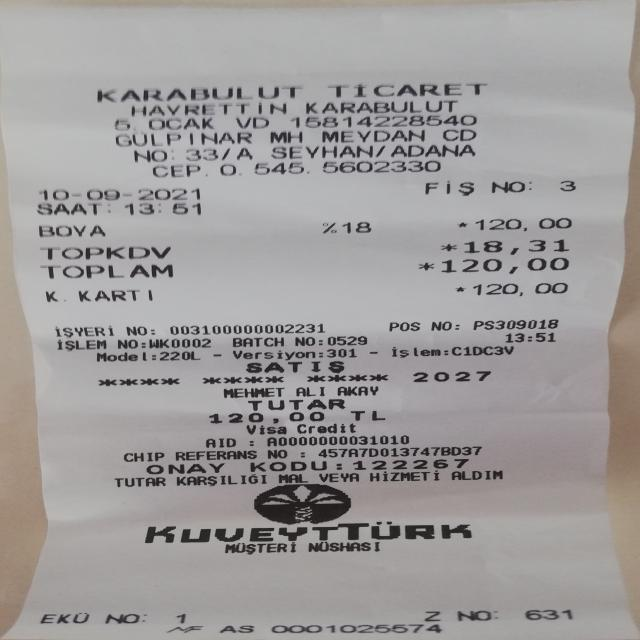text: (96, 86, 297, 100), (289, 114, 476, 128), (37, 185, 198, 201), (333, 81, 488, 96), (440, 257, 570, 274), (304, 99, 458, 113), (129, 102, 287, 115), (41, 263, 173, 278), (318, 445, 483, 457), (45, 245, 170, 260), (113, 132, 253, 145), (169, 323, 324, 334), (464, 238, 568, 254), (270, 144, 369, 160), (270, 624, 442, 633), (320, 128, 426, 142), (322, 161, 448, 172), (390, 142, 476, 158), (265, 436, 409, 445), (480, 217, 572, 231), (478, 282, 568, 296), (216, 162, 305, 175), (122, 202, 203, 216), (245, 361, 344, 372), (38, 222, 105, 238), (471, 318, 559, 330), (208, 412, 325, 421), (36, 201, 106, 216), (352, 459, 468, 468), (412, 369, 492, 382), (246, 399, 344, 409), (77, 289, 151, 302), (148, 116, 212, 131), (231, 348, 312, 359), (173, 449, 257, 459), (54, 324, 113, 338), (176, 475, 266, 484), (424, 180, 474, 196), (368, 471, 440, 482), (145, 463, 224, 473), (248, 461, 327, 471), (152, 162, 200, 178), (454, 344, 515, 356), (306, 541, 378, 551), (296, 423, 356, 434), (389, 346, 444, 358), (222, 387, 285, 397), (98, 350, 150, 362), (231, 336, 284, 347), (132, 147, 166, 164), (442, 126, 476, 142), (450, 470, 504, 480), (40, 612, 89, 623), (493, 178, 524, 195), (114, 476, 166, 486), (525, 608, 572, 619), (325, 334, 368, 346), (56, 339, 107, 349), (504, 332, 555, 342), (268, 130, 304, 144), (236, 115, 269, 130), (245, 423, 286, 435), (162, 349, 202, 361), (189, 146, 217, 163), (387, 319, 420, 333), (122, 450, 164, 461), (336, 385, 379, 395), (316, 472, 358, 482), (350, 409, 386, 420), (166, 624, 203, 634), (341, 221, 371, 233), (204, 437, 236, 448), (219, 624, 254, 634), (327, 346, 356, 358), (105, 612, 136, 623), (457, 609, 488, 620), (558, 176, 576, 194), (294, 386, 325, 396), (277, 473, 308, 483), (430, 318, 452, 332), (417, 258, 434, 275), (125, 324, 147, 337), (114, 116, 131, 132), (440, 240, 457, 256), (42, 290, 62, 303), (265, 448, 288, 459), (115, 338, 136, 349), (293, 336, 316, 346), (376, 142, 388, 160), (423, 609, 441, 621), (224, 146, 236, 162), (240, 145, 251, 162), (455, 217, 467, 232), (321, 221, 335, 233), (150, 349, 162, 362), (450, 285, 466, 294), (211, 348, 222, 360), (318, 347, 327, 359), (488, 609, 497, 620), (369, 346, 377, 358), (315, 335, 323, 346), (176, 612, 184, 623), (140, 338, 148, 348), (334, 460, 342, 470), (139, 612, 146, 623), (149, 323, 154, 337), (299, 447, 305, 458), (248, 436, 253, 448)
